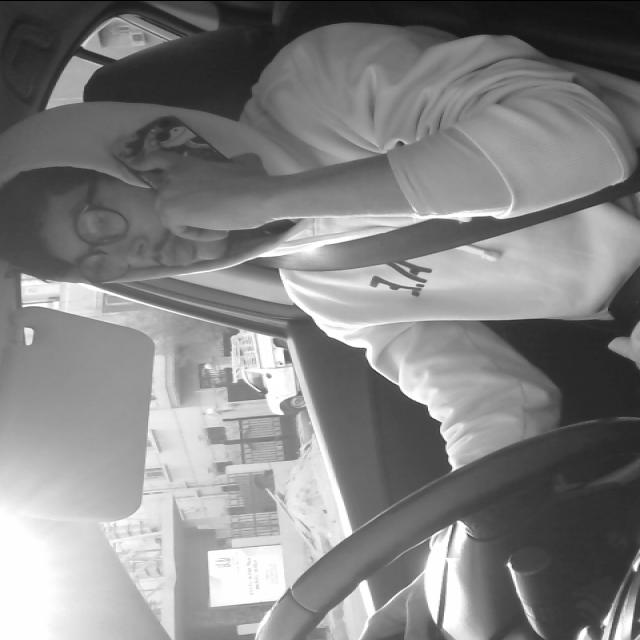mobile use: (106, 114, 242, 224)
